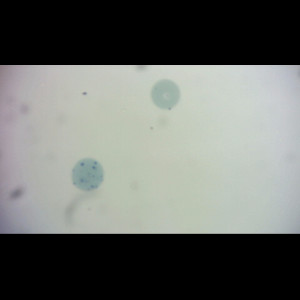aggregate reticulocyte: (70, 156, 105, 192)
erythrocyte: (149, 77, 182, 111)
